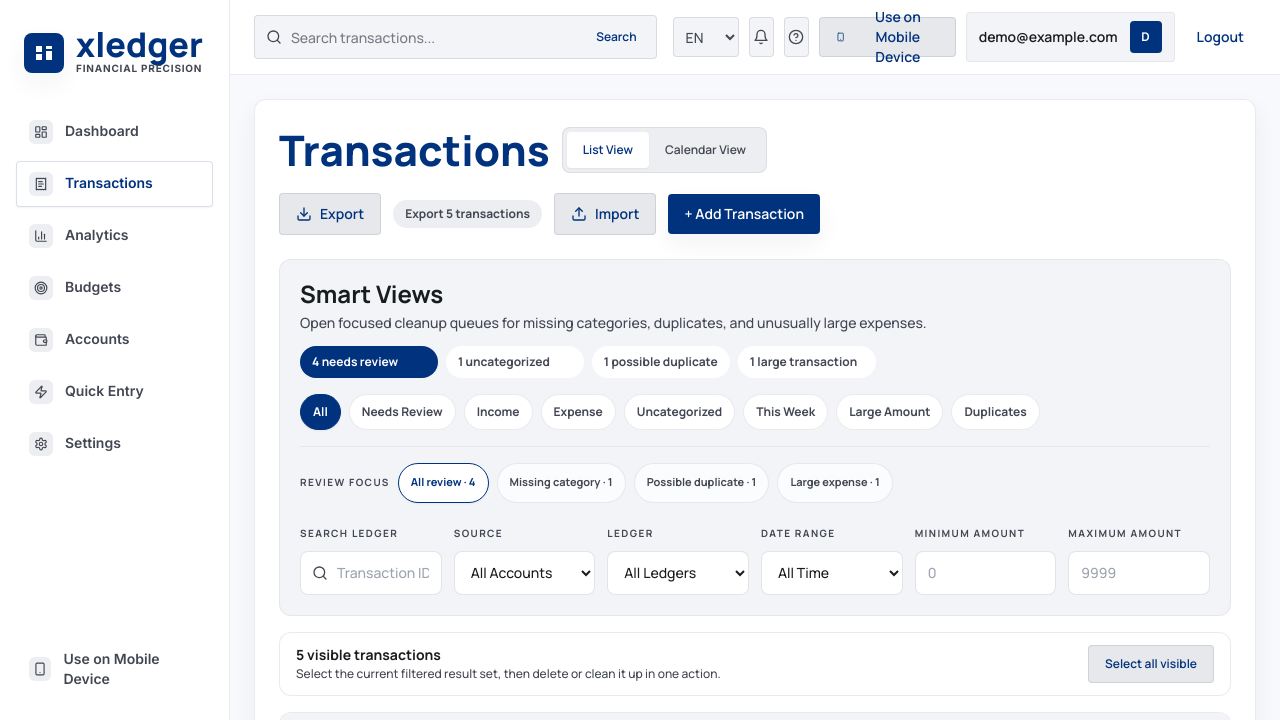
Test: transactions domain › selects all visible transactions and deletes them in one bulk action
This screenshot has width=1280, height=720.
Click the button "Select all visible" at (1151, 664), box [1088,644,1214,682]
(page scrolled)
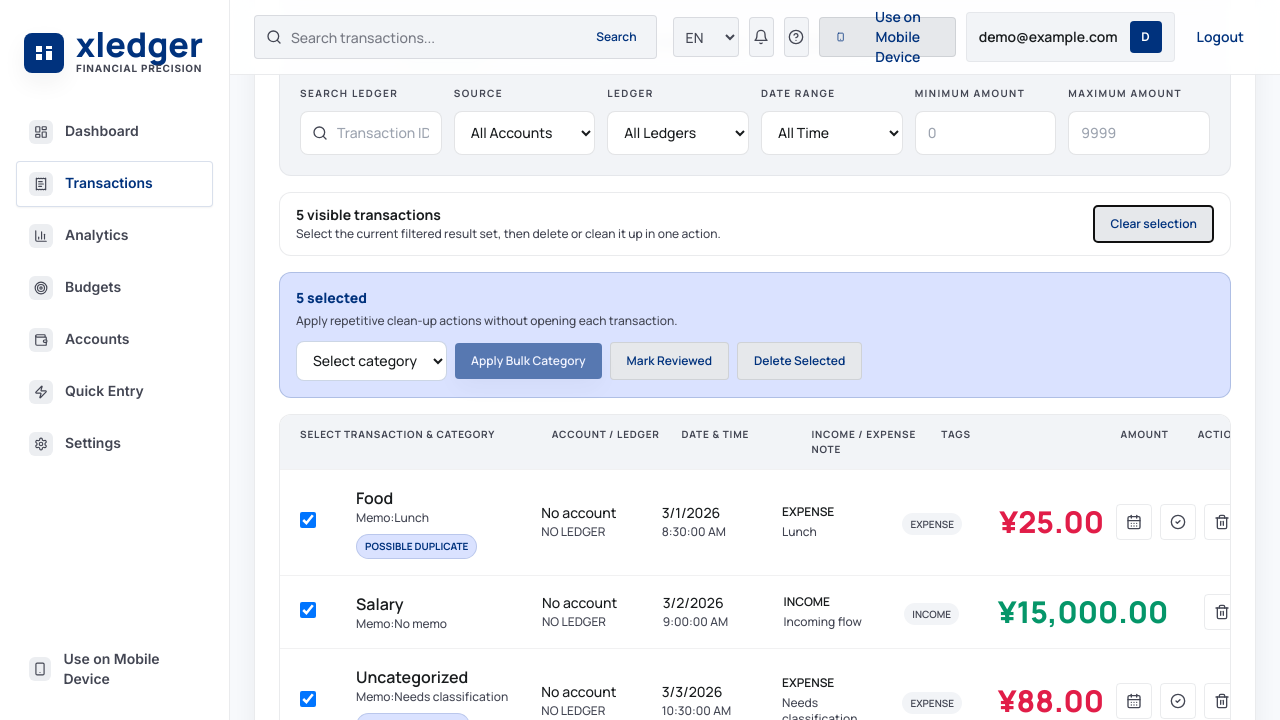
Result: the text "5 selected" is shown at [296,288,367,308]
Click the button "Delete Selected" at (800, 360), box [737,342,862,380]
(page scrolled)
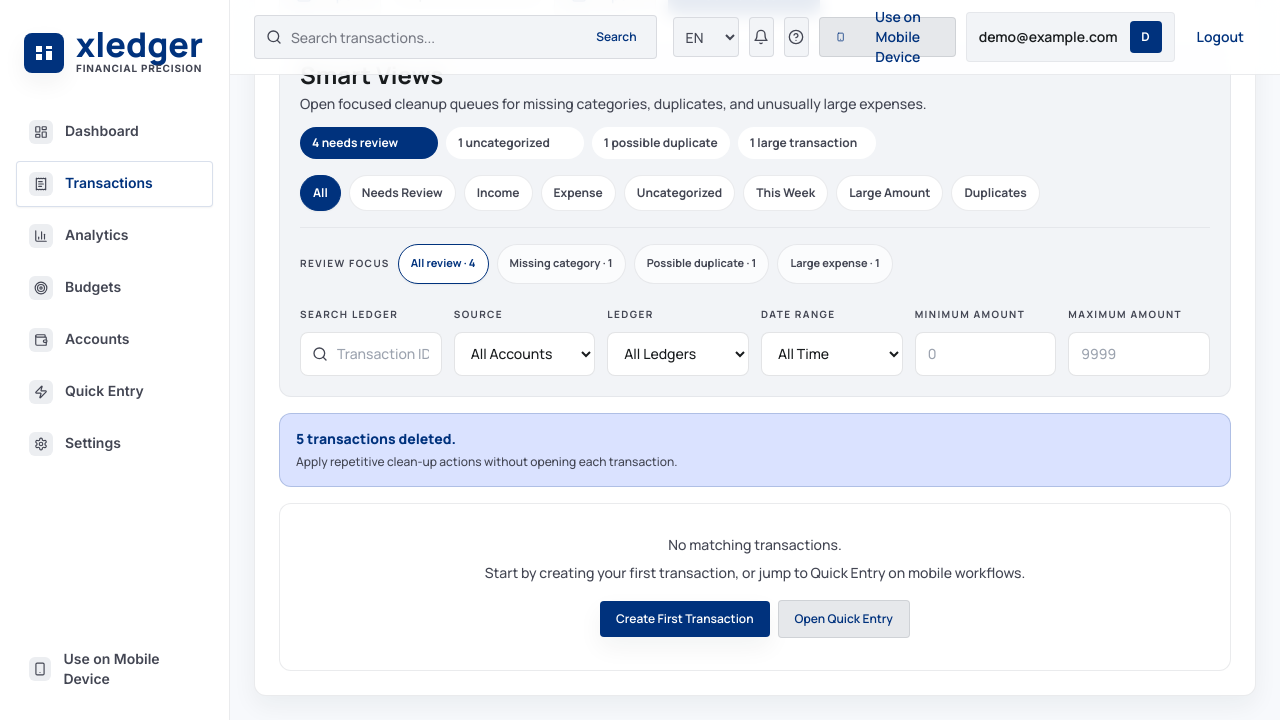
Result: the text "5 transactions deleted." is shown at [296,430,456,448]
